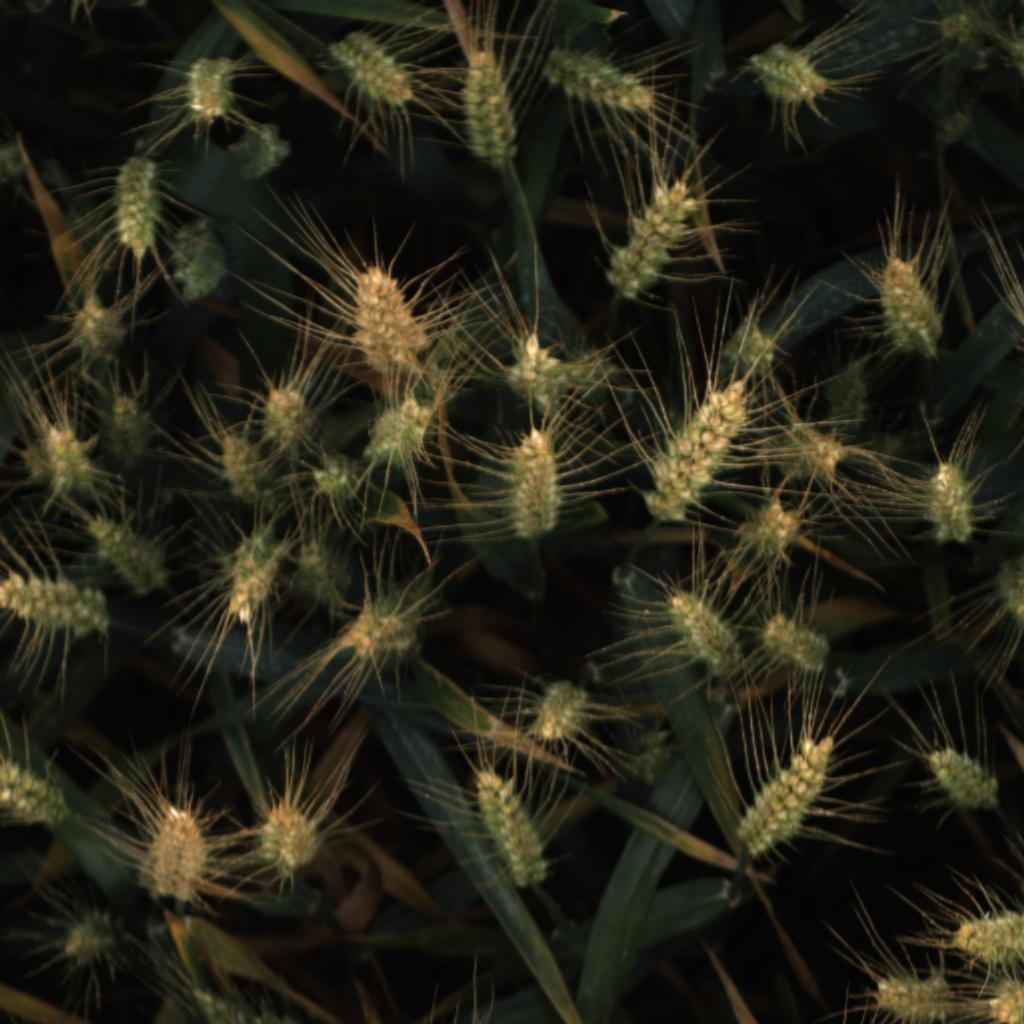0-0: (628, 374, 749, 528), (733, 721, 837, 861), (597, 171, 702, 304), (460, 763, 562, 895), (338, 254, 434, 372), (132, 788, 216, 908), (533, 46, 671, 115), (324, 24, 420, 120), (491, 422, 570, 538), (866, 245, 945, 360), (88, 509, 183, 601), (658, 579, 740, 683), (458, 36, 519, 175), (0, 561, 107, 637), (923, 731, 1008, 825), (215, 525, 292, 624), (496, 321, 583, 408), (0, 721, 67, 830), (755, 418, 854, 490), (738, 40, 833, 113), (914, 458, 984, 553), (523, 673, 605, 752), (287, 529, 363, 613), (254, 794, 328, 880), (760, 600, 838, 678), (732, 489, 806, 571), (220, 112, 288, 197), (109, 150, 162, 259), (345, 590, 426, 660), (209, 423, 276, 507), (710, 310, 789, 381), (169, 212, 229, 305), (39, 413, 106, 496), (945, 900, 1024, 970), (864, 966, 955, 1024), (55, 895, 123, 971), (176, 46, 238, 129), (102, 387, 163, 471), (192, 984, 314, 1024), (257, 374, 317, 452), (819, 354, 879, 430), (61, 286, 128, 354), (301, 440, 370, 505), (368, 398, 435, 464), (379, 354, 447, 418), (618, 724, 681, 787), (564, 344, 620, 400), (990, 549, 1024, 639), (934, 8, 978, 51), (864, 424, 907, 466), (16, 437, 53, 482), (940, 103, 978, 145), (0, 139, 32, 185), (997, 30, 1024, 73)
